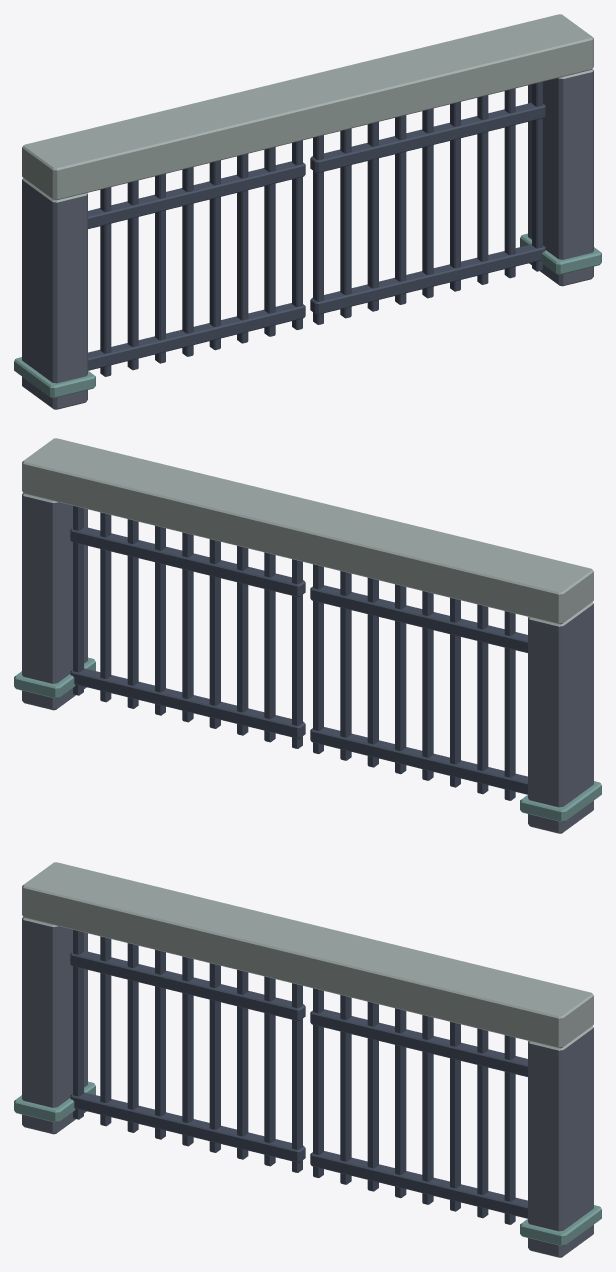
The model's file is gate-wide.glb.
The picture shows the model from 3 angles, top to bottom: view 1: azimuth 30°, elevation 25°; view 2: azimuth 150°, elevation 25°; view 3: azimuth 330°, elevation 25°; orthographic projection.
Visible parts, largest first — view 1: gate-wide__body, gate-wide__leaf-right, gate-wide__leaf-left; view 2: gate-wide__body, gate-wide__leaf-right, gate-wide__leaf-left; view 3: gate-wide__body, gate-wide__leaf-left, gate-wide__leaf-right.
Part boxes in pixels (box(x1,y1,x2,y2)): gate-wide__body: box(14, 14, 601, 409); gate-wide__leaf-right: box(310, 82, 545, 324); gate-wide__leaf-left: box(88, 140, 305, 376); gate-wide__body: box(14, 438, 601, 833); gate-wide__leaf-right: box(70, 506, 305, 748); gate-wide__leaf-left: box(310, 564, 527, 800); gate-wide__body: box(14, 862, 601, 1257); gate-wide__leaf-left: box(70, 930, 305, 1172); gate-wide__leaf-right: box(310, 988, 527, 1224).
Size of the model in its own units: 4.69 by 1.96 by 0.58.
